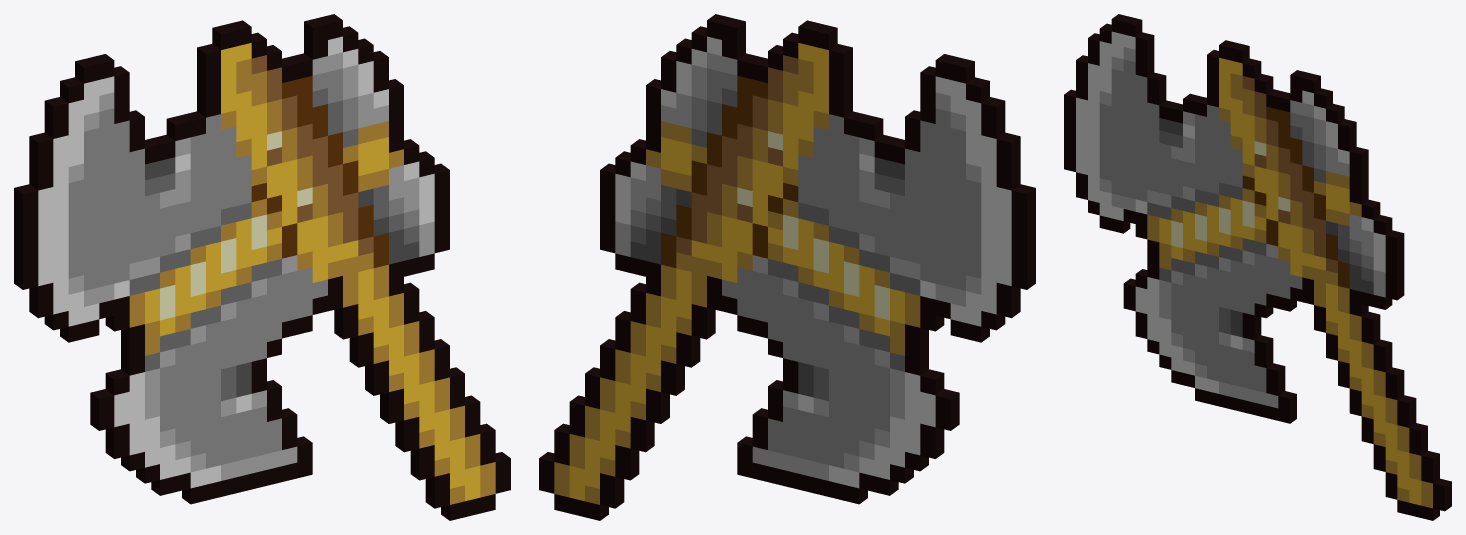
File: W_Gold_Axe.fbx
3 renders of one model, left to right at view 1: azimuth 30°, elevation 25°; view 2: azimuth 150°, elevation 25°; view 3: azimuth 330°, elevation 25°, orthographic. The views are drawn at different scales.
Visible parts, largest first — view 1: Default; view 2: Default; view 3: Default.
Part boxes in pixels (x1=…): Default: x1=14, y1=14, x2=510, y2=520; Default: x1=539, y1=14, x2=1035, y2=520; Default: x1=1064, y1=14, x2=1451, y2=520.
Size of the model in its own units: 32 by 34 by 1.
Materials: 1 (1 with a texture image).
